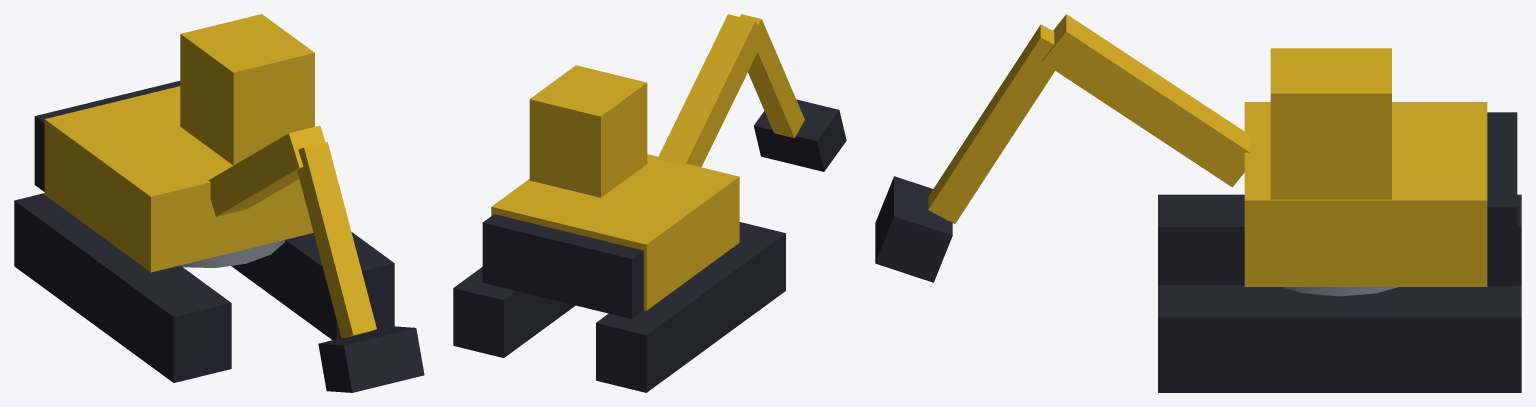
File: machine-excavator-lod1.17dff213.glb
3 views of the same model, side by side, from view 1: azimuth 30°, elevation 25°; view 2: azimuth 150°, elevation 25°; view 3: azimuth 270°, elevation 25° (orthographic). The views are drawn at different scales.
Parts seen in each view (by area): view 1: Excavator_LOD1__T_vcol; view 2: Excavator_LOD1__T_vcol; view 3: Excavator_LOD1__T_vcol.
Part boxes in pixels (x1,y1,x2,y2): Excavator_LOD1__T_vcol: (14,14,424,392); Excavator_LOD1__T_vcol: (453,14,846,392); Excavator_LOD1__T_vcol: (875,14,1521,392).
Size of the model in its own units: 1.68 by 1.9 by 3.73.
